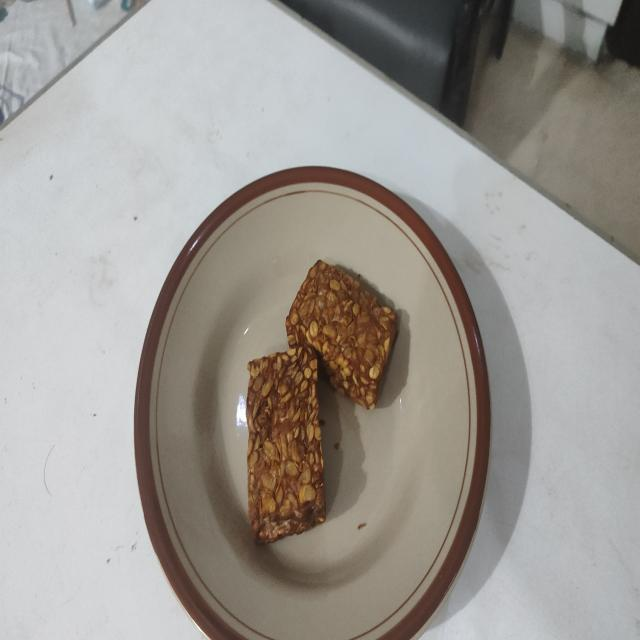tempe_goreng: (286, 260, 398, 409), (247, 344, 326, 542)
